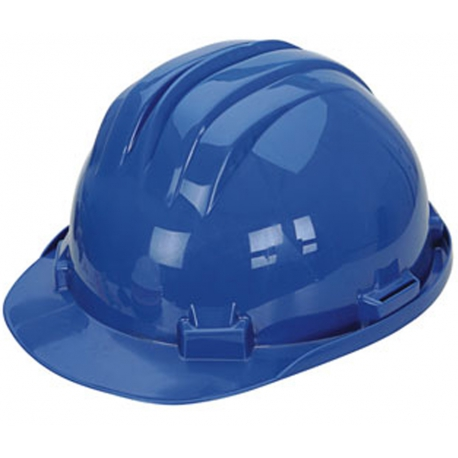casco: (1, 36, 456, 408)
